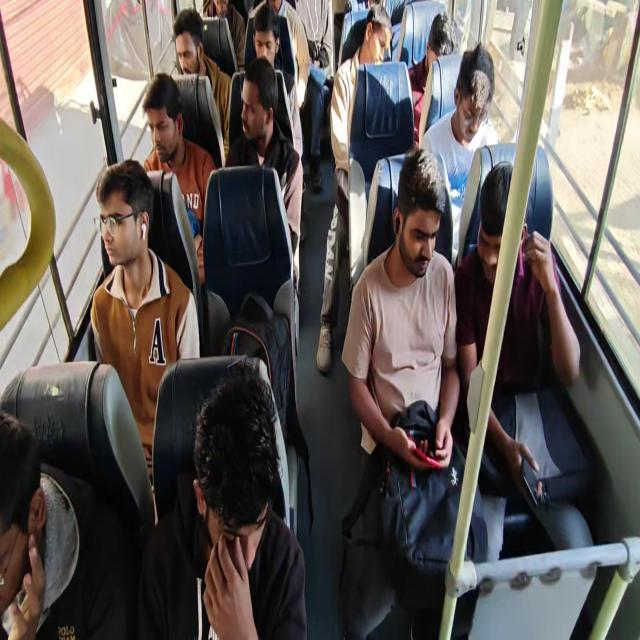person: (192, 388, 274, 582), (0, 406, 45, 616), (88, 172, 152, 280), (395, 171, 442, 287), (467, 186, 512, 285), (138, 84, 185, 156), (456, 54, 491, 148), (232, 68, 272, 147), (358, 12, 394, 70), (422, 15, 457, 72), (166, 18, 199, 72), (248, 13, 279, 65)
